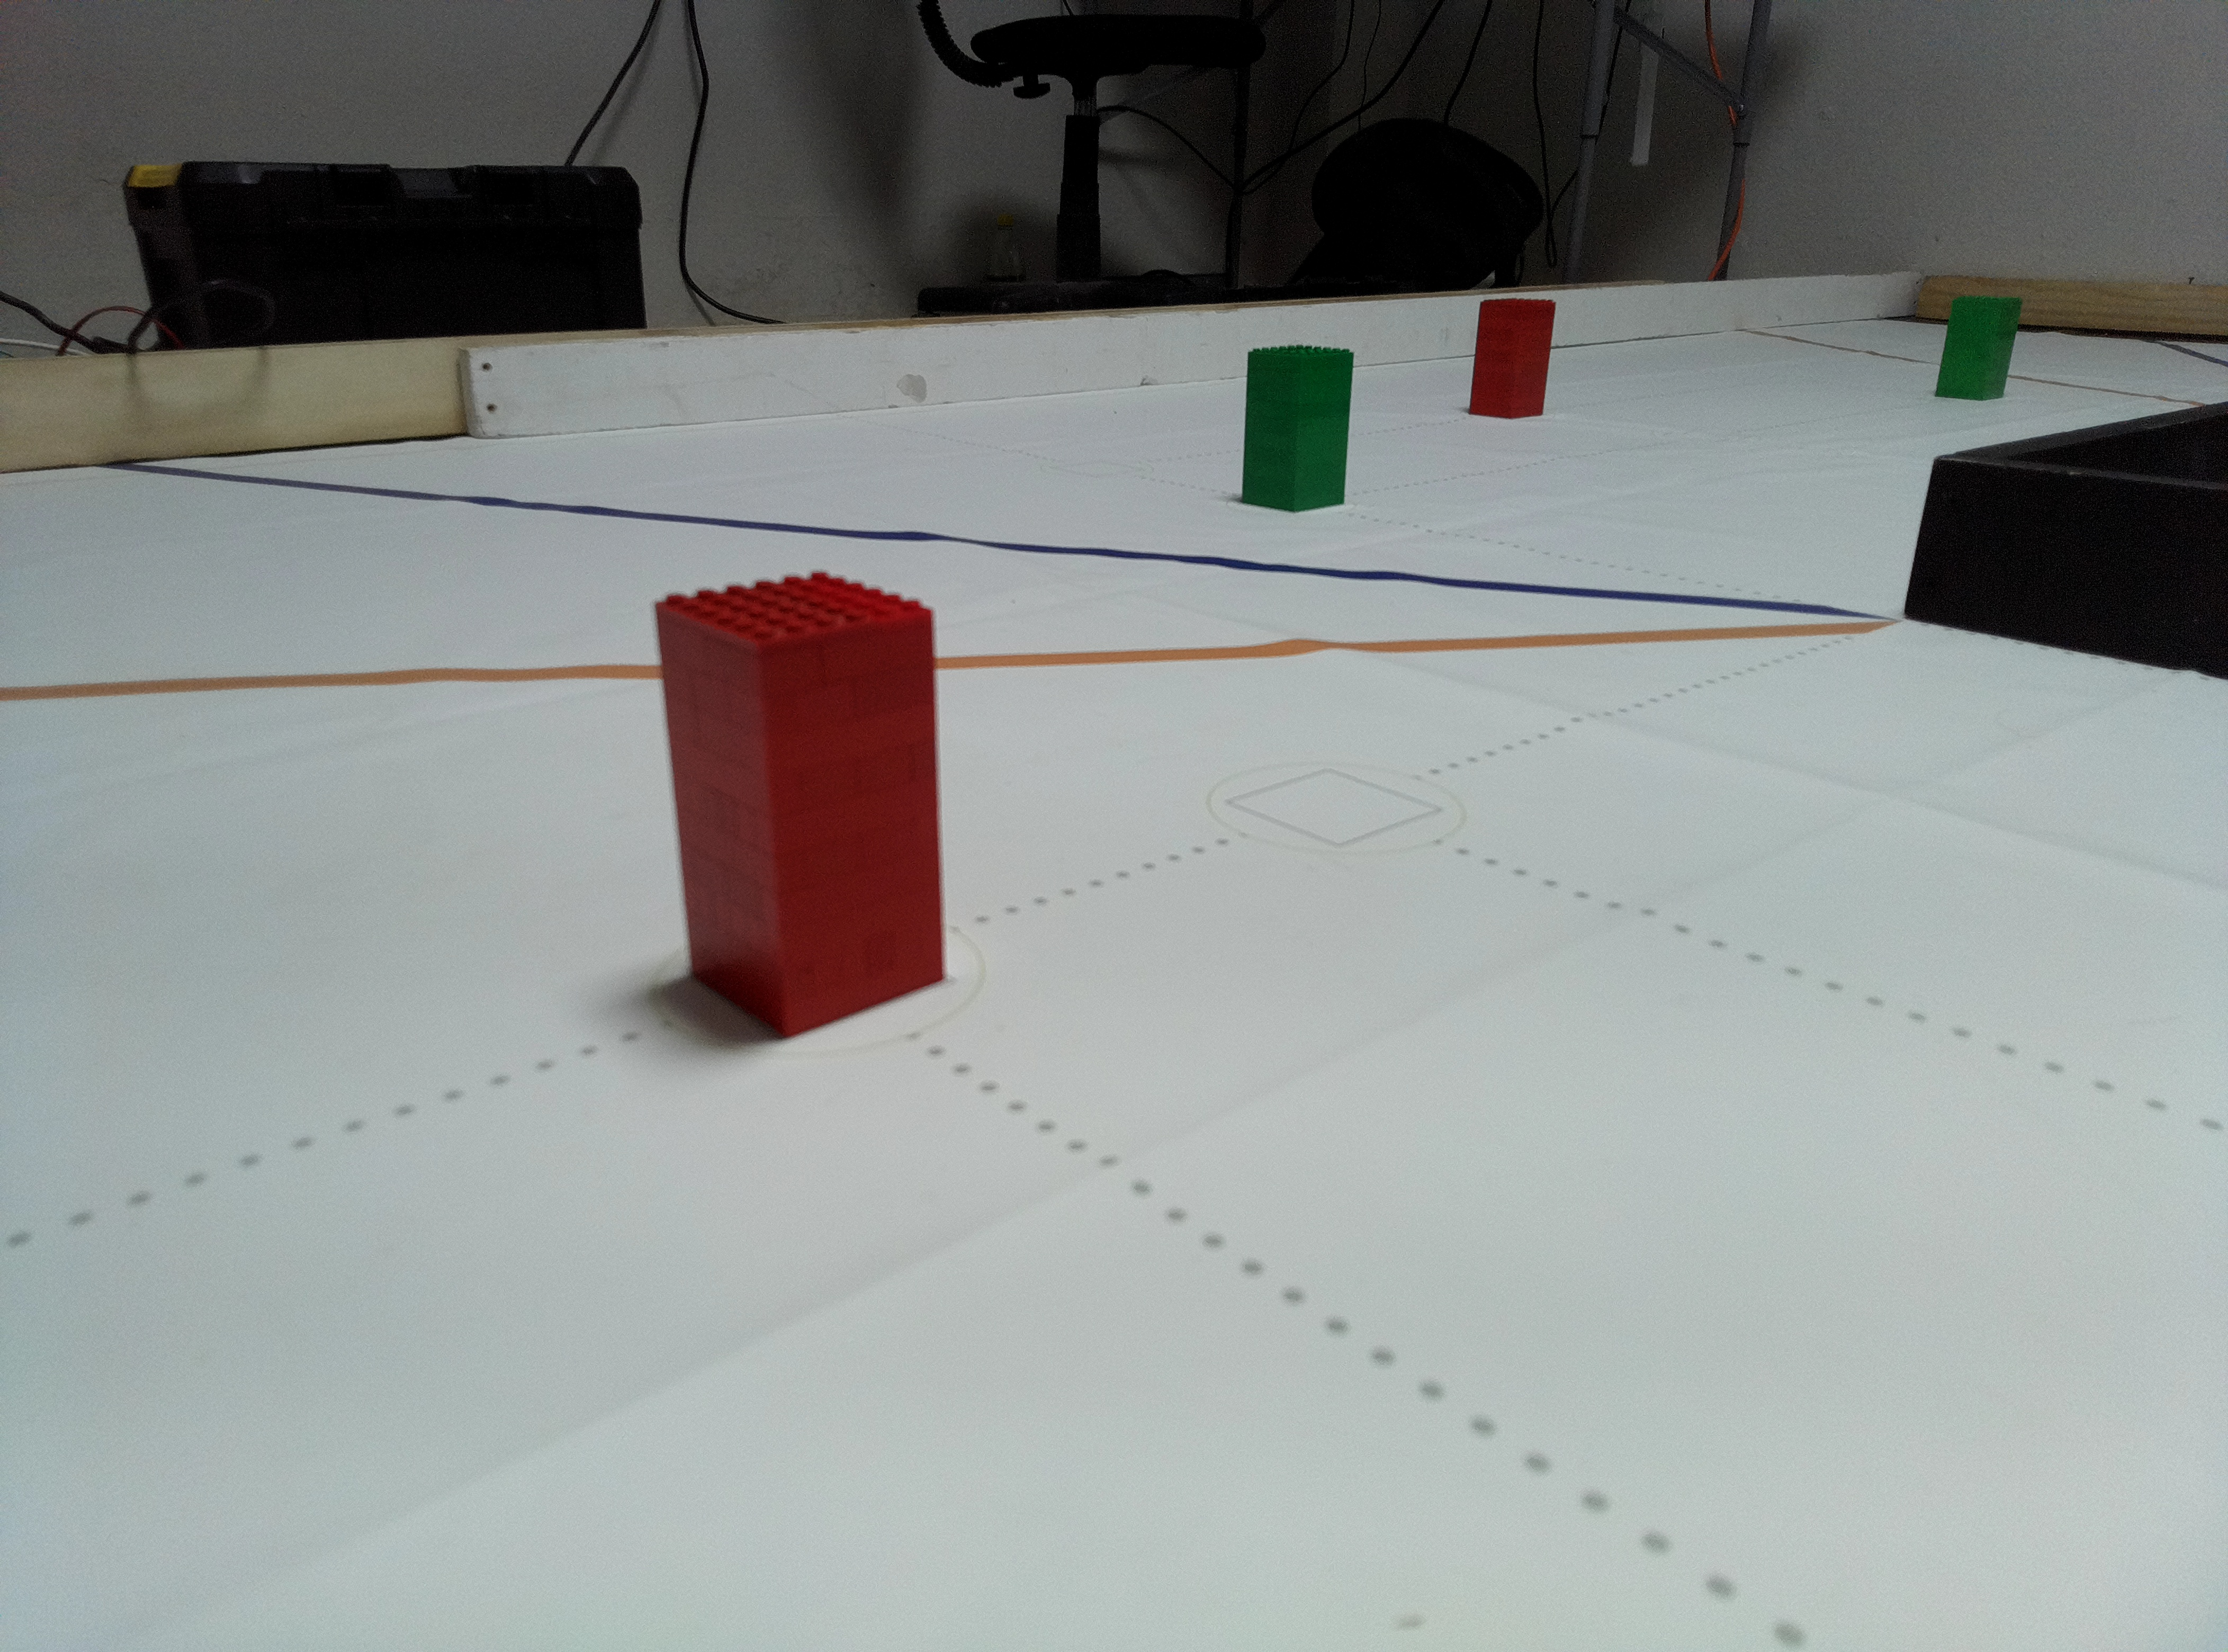greenbox: (1239, 342, 1357, 514), (1933, 295, 2025, 403)
redbox: (651, 571, 951, 1045), (1468, 295, 1556, 420)
